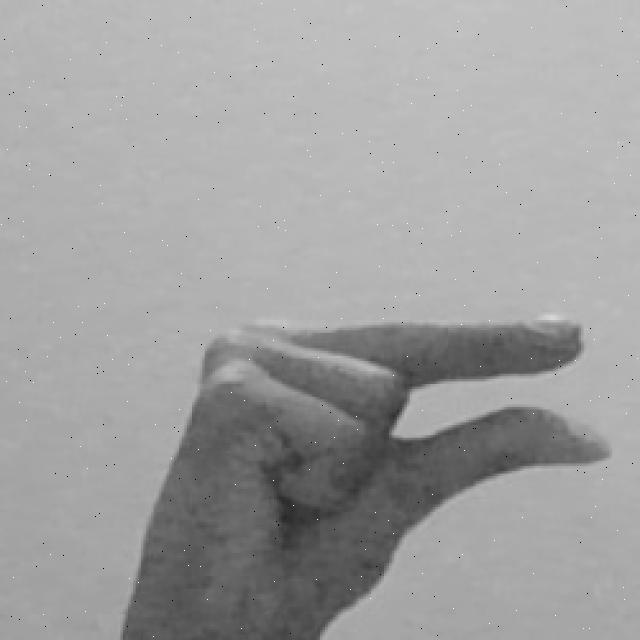G: (113, 310, 617, 640)
